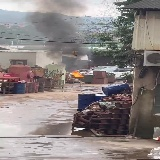fire: (72, 71, 85, 77)
